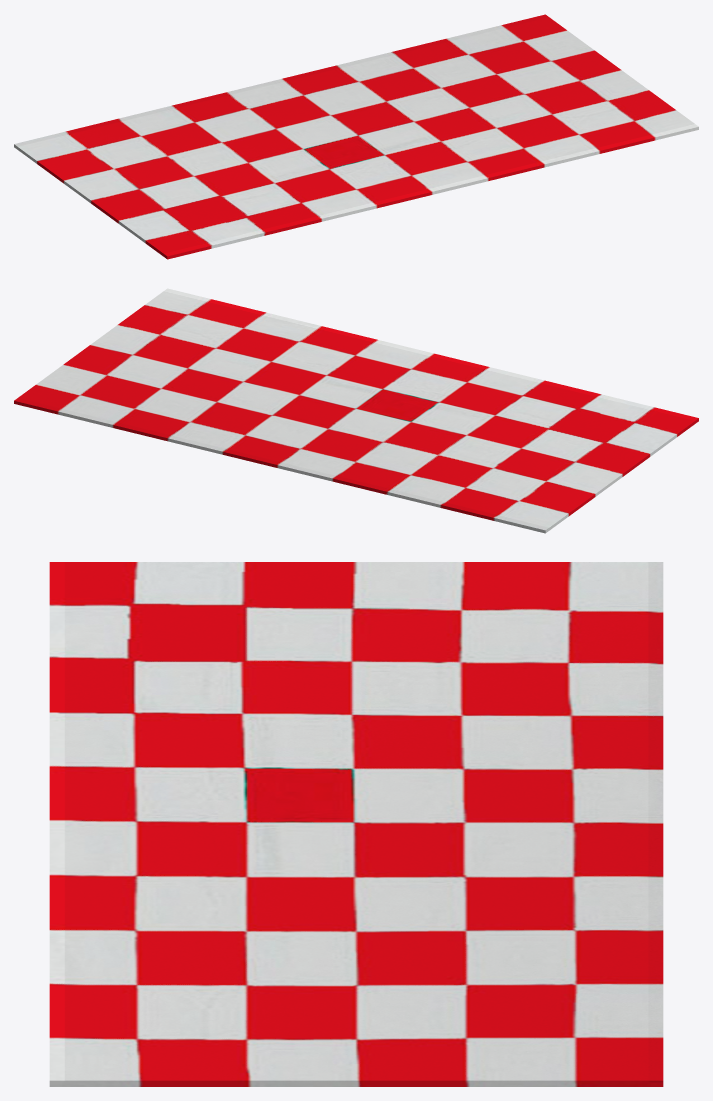
File: RaceBase.fbx
3 views of the same model, one above another, from view 1: azimuth 30°, elevation 25°; view 2: azimuth 150°, elevation 25°; view 3: azimuth 270°, elevation 25° (orthographic). The views are drawn at different scales.
Parts seen in each view (by area): view 1: Cube.050; view 2: Cube.050; view 3: Cube.050.
Boxes of the visible parts, box(x1,y1,x2,y2) form: Cube.050: box(14, 14, 698, 259); Cube.050: box(14, 288, 698, 533); Cube.050: box(49, 562, 663, 1086).
Size of the model in its own units: 20 by 40 by 0.2226.
